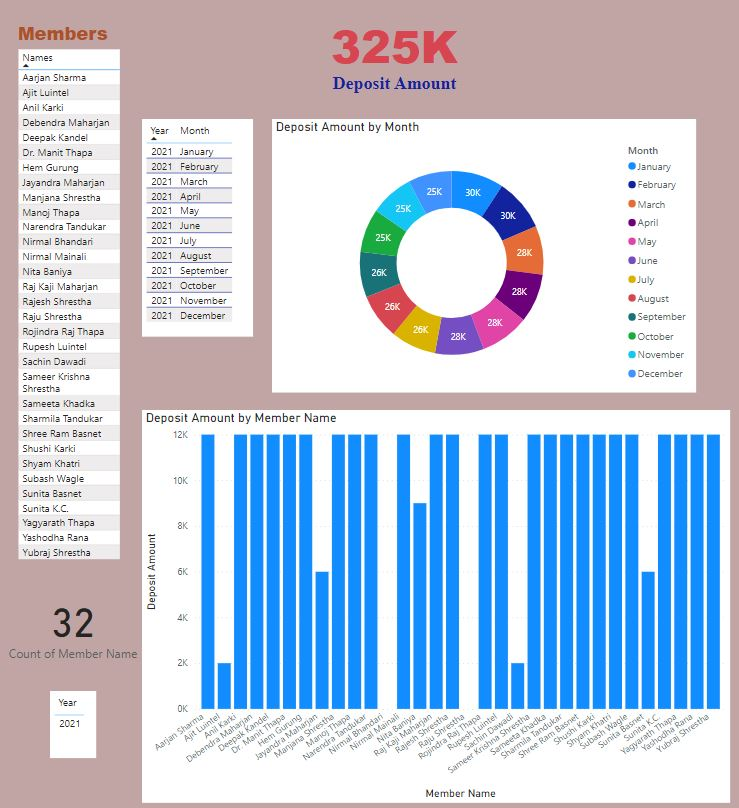

This screenshot's page, from the dashboard's own definition file:
{"tool":"powerbi","page":{"name":"Page 1","canvas":[1000,1100],"ordinal":0},"visuals":[{"type":"clusteredColumnChart","fields":{"Category":["Sheet1.Member Name","Sheet1.Month.Variation.Date Hierarchy.Month"],"Y":["Sum(Sheet1.Deposit Amount)"]},"box":[196.1,560.5,788.8,526.8],"z":0},{"type":"tableEx","fields":{"Values":["Sheet1.Month.Variation.Date Hierarchy.Year","Sheet1.Month.Variation.Date Hierarchy.Month"]},"box":[195.9,170.4,148.9,292.4],"z":1000},{"type":"tableEx","title":"Members ","fields":{"Values":["Sheet1.Member Name"]},"box":[24.1,38.9,157,741.8],"z":2000},{"type":"card","fields":{"Values":["Sum(Sheet1.Deposit Amount)"]},"box":[414.5,10.7,240.1,143.5],"z":3000},{"type":"donutChart","fields":{"Category":["Sheet1.Month.Variation.Date Hierarchy.Month"],"Y":["Sum(Sheet1.Deposit Amount)"]},"box":[370.2,169.8,569.3,367.3],"z":4000},{"type":"card","fields":{"Values":["Count(Sheet1.Member Name)"]},"box":[10.7,796.8,185.1,104.6],"z":5000},{"type":"tableEx","fields":{"Values":["Sheet1.Month.Variation.Date Hierarchy.Year"]},"box":[72.4,937.7,61.7,89.9],"z":6000}]}

Visuals, with their boxes in screenshot pixels (x1, y1, x2, y2), scaled from the page's 1000x1100 canvas onto the 739x808 screenshot:
clusteredColumnChart - Sheet1.Member Name x Sheet1.Month.Variation.Date Hierarchy.Month: box=[145, 412, 728, 799]
tableEx - Sheet1.Month.Variation.Date Hierarchy.Year x Sheet1.Month.Variation.Date Hierarchy.Month: box=[145, 125, 255, 340]
"Members " tableEx: box=[18, 29, 134, 573]
card - Sum(Sheet1.Deposit Amount): box=[306, 8, 484, 113]
donutChart - Sheet1.Month.Variation.Date Hierarchy.Month x Sum(Sheet1.Deposit Amount): box=[274, 125, 694, 395]
card - Count(Sheet1.Member Name): box=[8, 585, 145, 662]
tableEx - Sheet1.Month.Variation.Date Hierarchy.Year: box=[54, 689, 99, 755]
